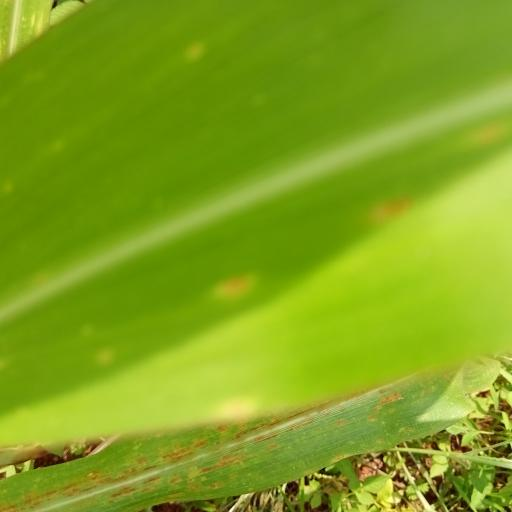Corn_Brown_Spots: (4, 0, 512, 461), (0, 368, 493, 512)
